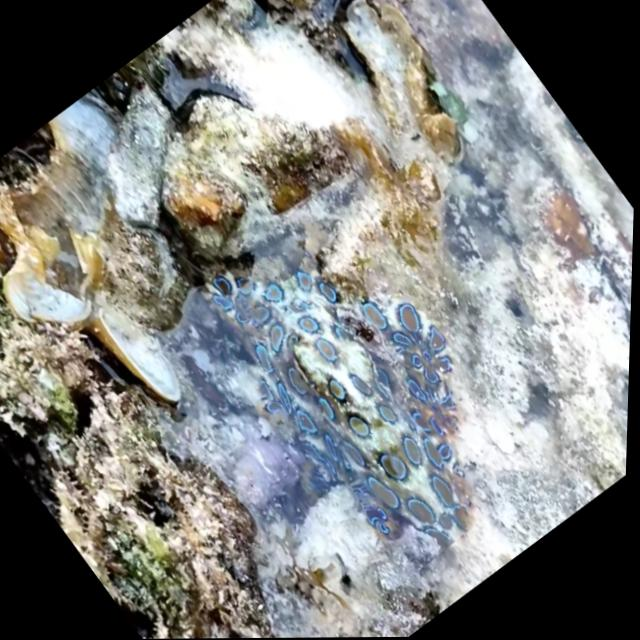blue_ringed_octopus: (171, 180, 558, 594)
